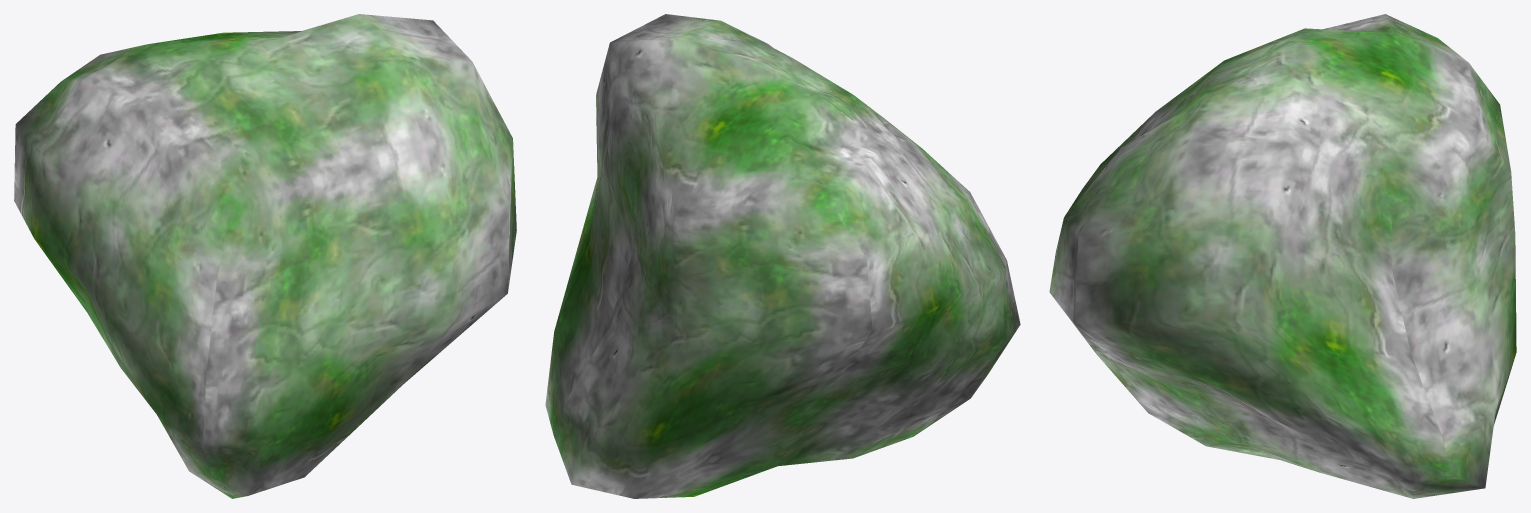
The model's file is INST_HTOWN_ROCKD.fbx.
3 views of the same model, side by side, from view 1: azimuth 30°, elevation 25°; view 2: azimuth 150°, elevation 25°; view 3: azimuth 270°, elevation 25° (orthographic). The views are drawn at different scales.
Parts seen in each view (by area): view 1: INST_HTOWN_ROCKD; view 2: INST_HTOWN_ROCKD; view 3: INST_HTOWN_ROCKD.
Part boxes in pixels (box(x1,y1,x2,y2)): INST_HTOWN_ROCKD: box(14, 14, 516, 498); INST_HTOWN_ROCKD: box(545, 14, 1020, 498); INST_HTOWN_ROCKD: box(1049, 14, 1516, 498).
Size of the model in its own units: 20134 by 20134 by 20134.
Materials: 1 (1 with a texture image).
